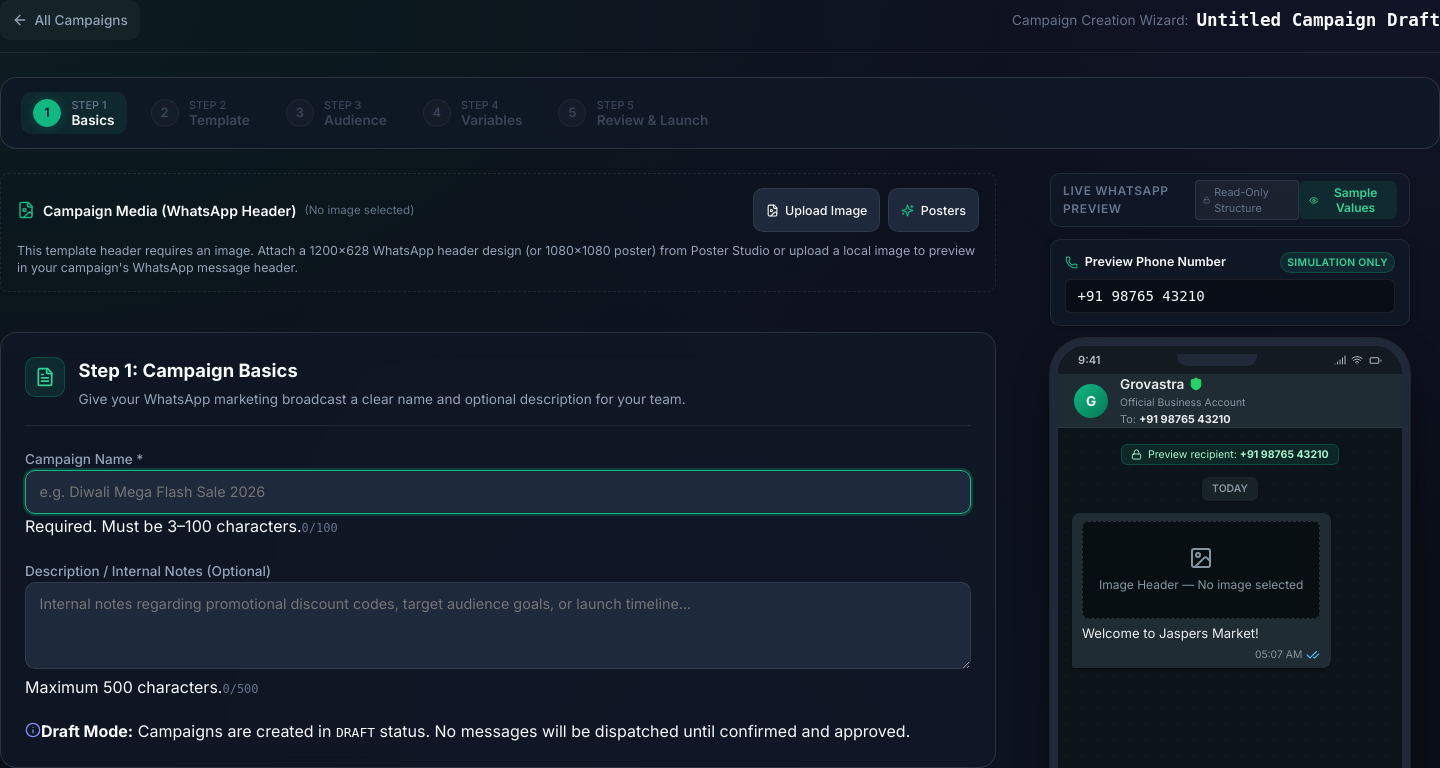
Test case: Campaign Media Picker — Phase 3E Comprehensive Tests › 4. Selected poster appears in campaign draft media card and updates phone live preview
This screenshot has width=1440, height=768.
Note: Open picker
Click the button "Posters": [934, 210] box [888, 188, 979, 232]
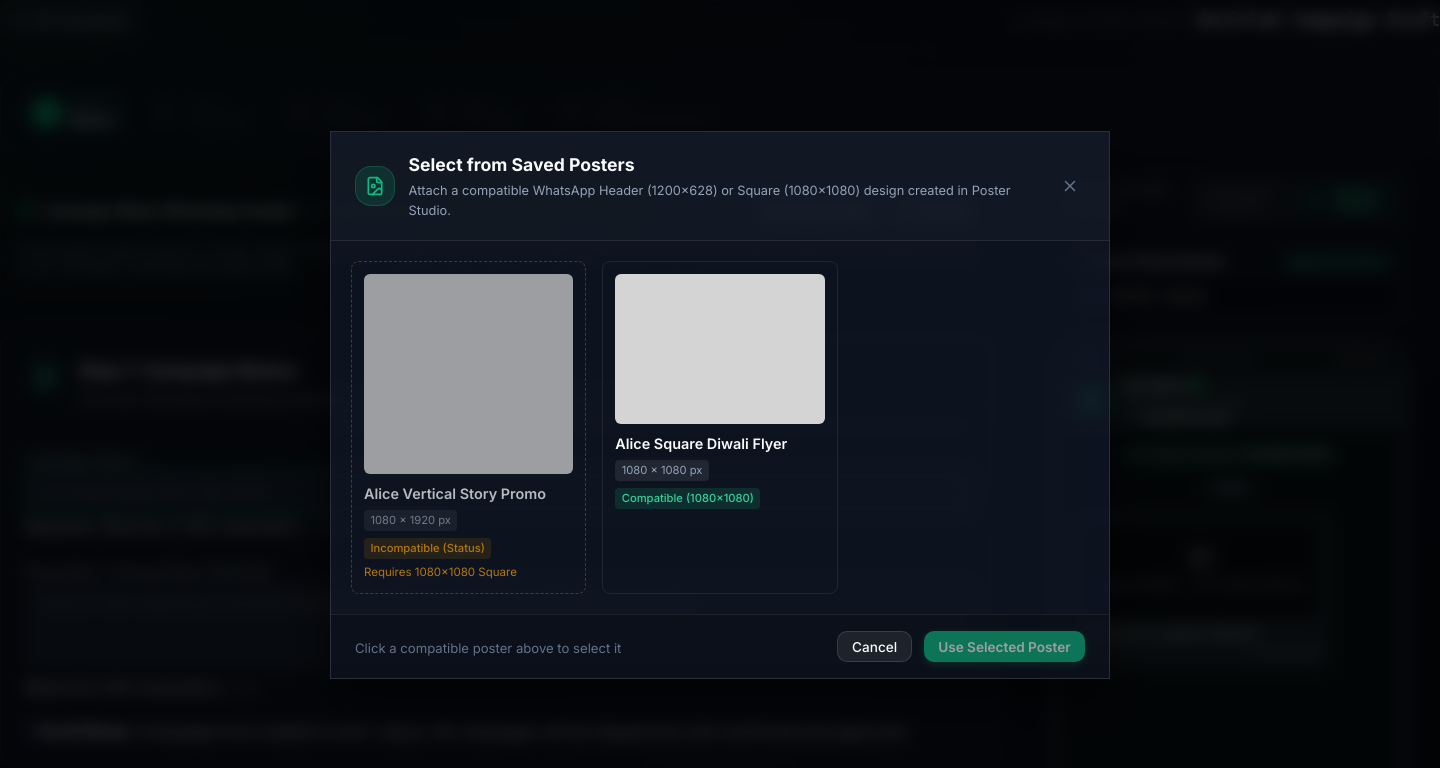
Expected: the heading "Select from Saved Posters" is shown, [409, 154, 635, 175]
Expected: the text "Alice Square Diwali Flyer" is shown
Note: Select Square poster
Click the text "Alice Square Diwali Flyer": [701, 444] box [615, 435, 787, 452]
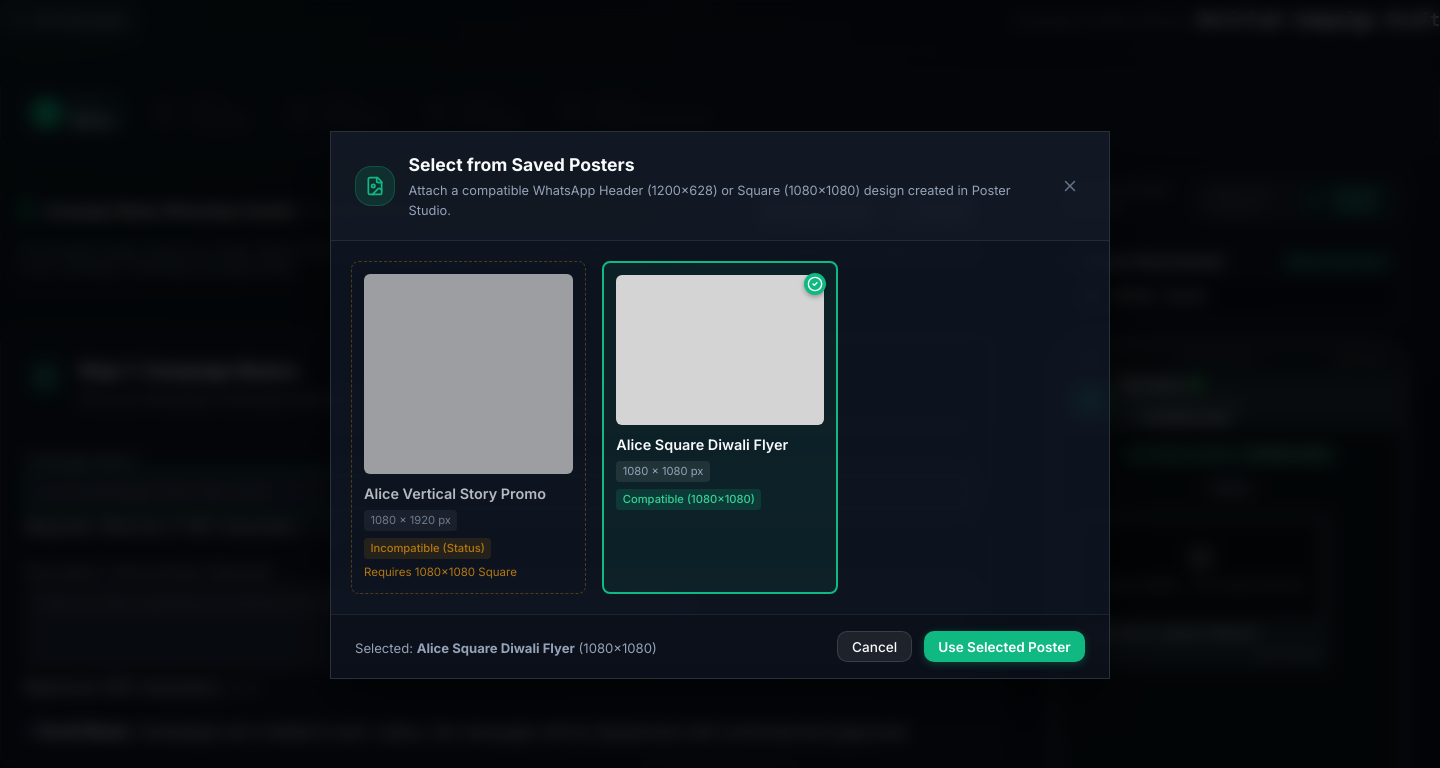
Click the button "Use Selected Poster": [1004, 647] box [924, 631, 1085, 662]
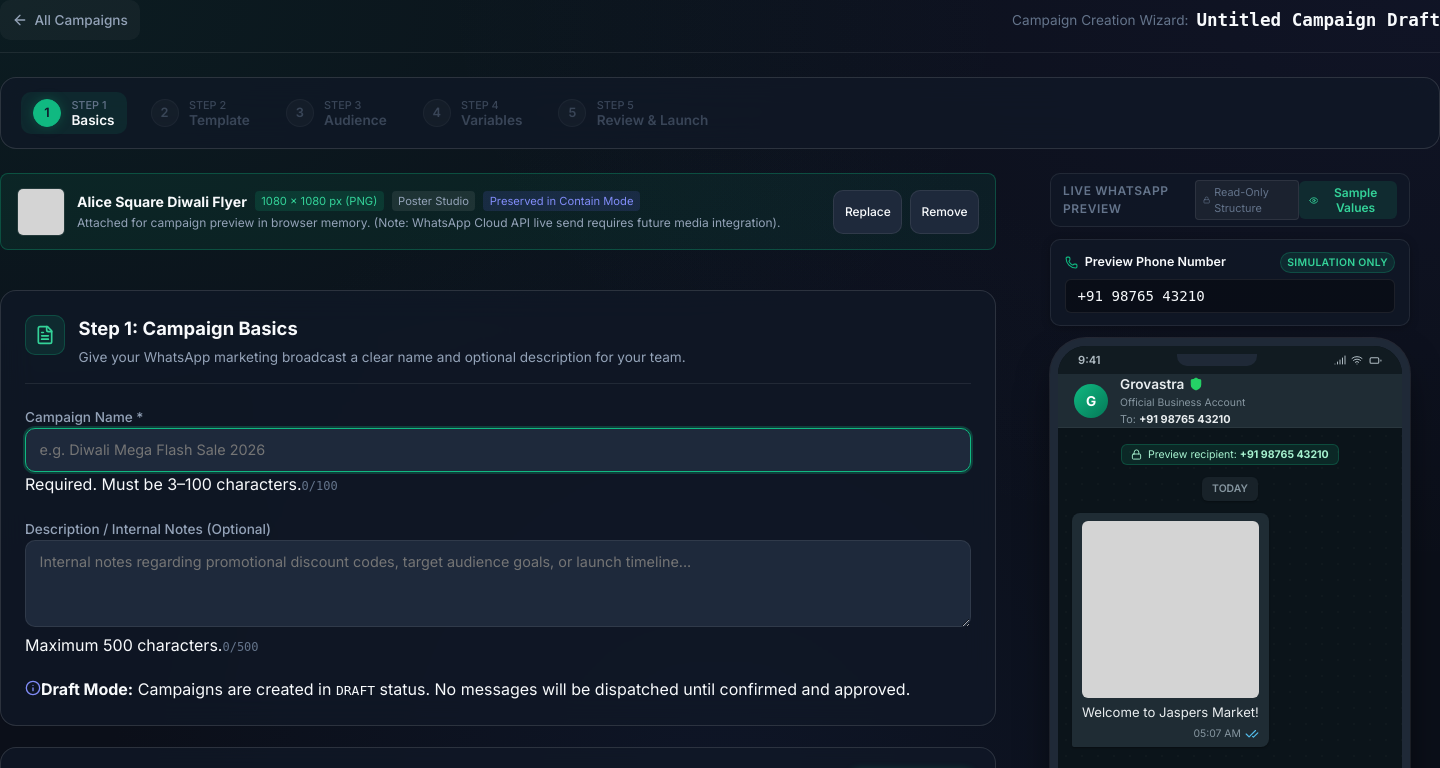
Expected: the text "Alice Square Diwali Flyer" is shown, [77, 191, 247, 212]
Expected: the element with test id "attached-media-card" is shown, [0, 173, 996, 250]
Expected: the text "1080 × 1080 px (PNG)" is shown, [255, 191, 384, 211]
